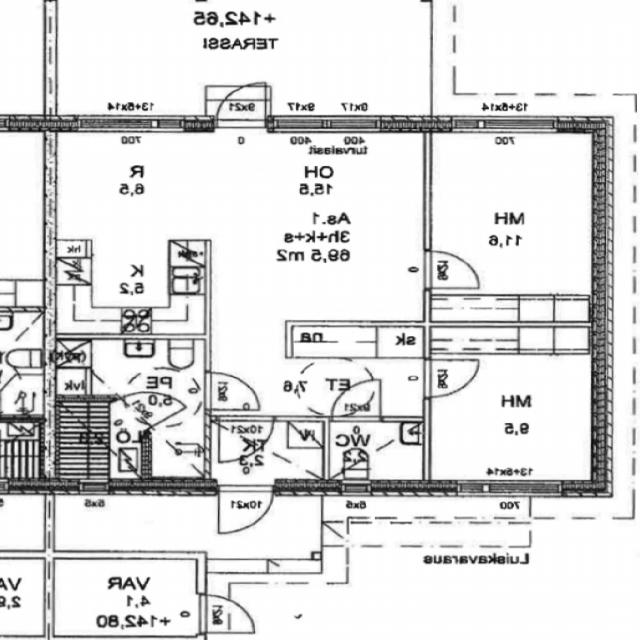door: (113, 378, 187, 432), (218, 479, 274, 537), (219, 416, 274, 463), (217, 80, 265, 132), (196, 595, 256, 633), (424, 251, 480, 288), (424, 360, 480, 397), (333, 379, 381, 422), (206, 372, 260, 409)
